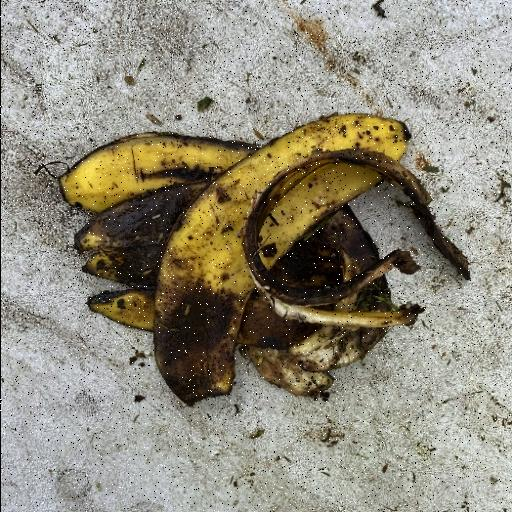Waste: (56, 110, 472, 406)
